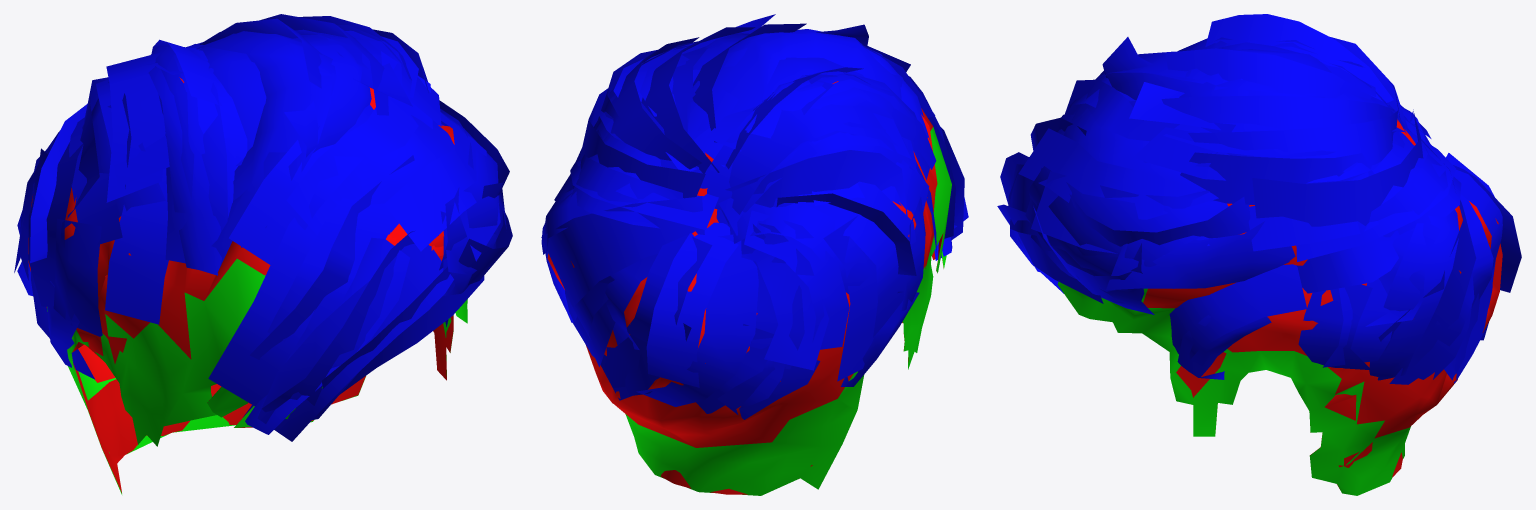
File: hair_004.obj
3 views of the same model, side by side, from view 1: azimuth 30°, elevation 25°; view 2: azimuth 150°, elevation 25°; view 3: azimuth 270°, elevation 25° (orthographic). The views are drawn at different scales.
Size of the model in its own units: 19.11 by 21.79 by 24.35.
